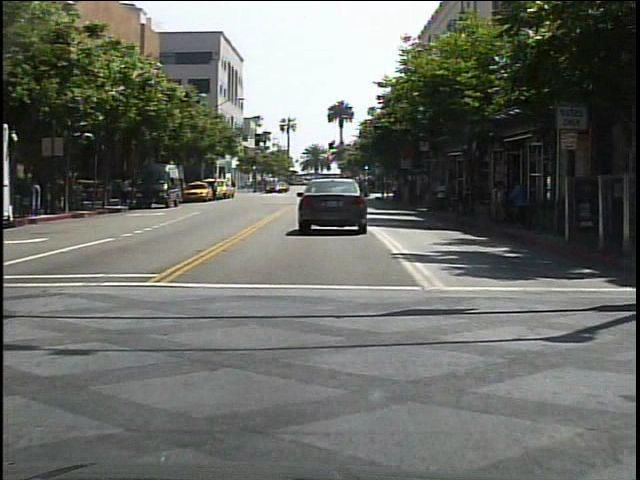person: (432, 177, 452, 216)
